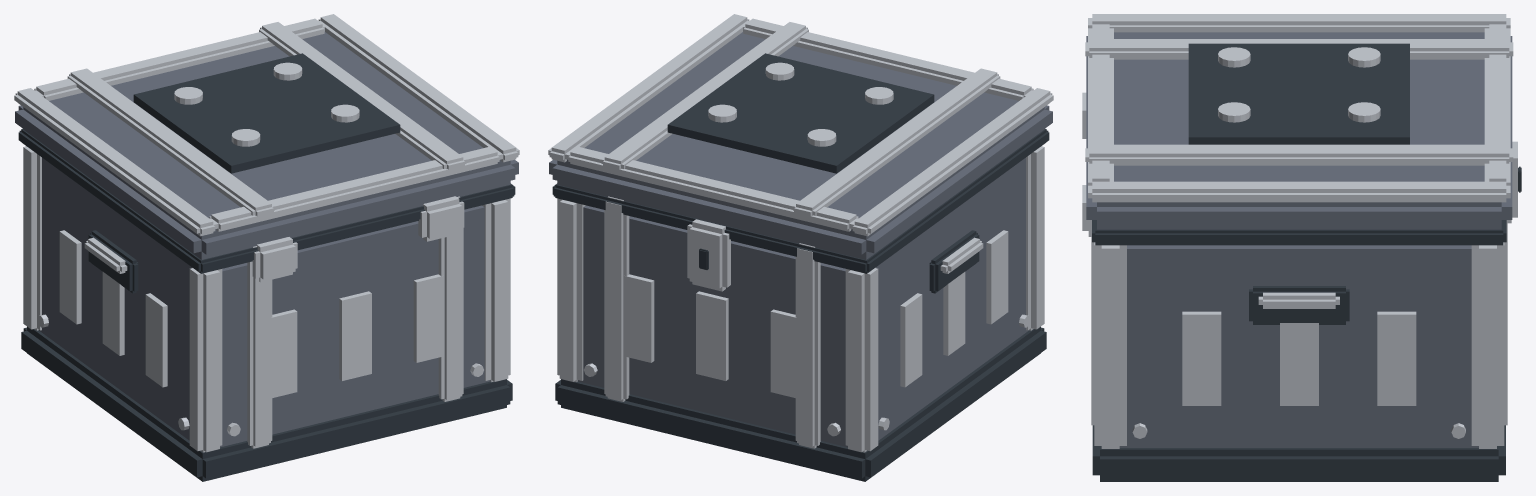
File: crate_ferro.fbx
The picture shows the model from 3 angles, left to right: view 1: azimuth 30°, elevation 25°; view 2: azimuth 150°, elevation 25°; view 3: azimuth 270°, elevation 25°; orthographic projection. The views are drawn at different scales.
Visible parts, largest first — view 1: crate_ferro_caixa; view 2: crate_ferro_caixa; view 3: crate_ferro_caixa.
Boxes of the visible parts, x1=… form: crate_ferro_caixa: x1=14, y1=14, x2=519, y2=481; crate_ferro_caixa: x1=548, y1=14, x2=1053, y2=481; crate_ferro_caixa: x1=1082, y1=14, x2=1521, y2=481.
Bounding box in the file's own units: 2.68 × 2.15 × 2.7.
Materials: 1 (1 with a texture image).
